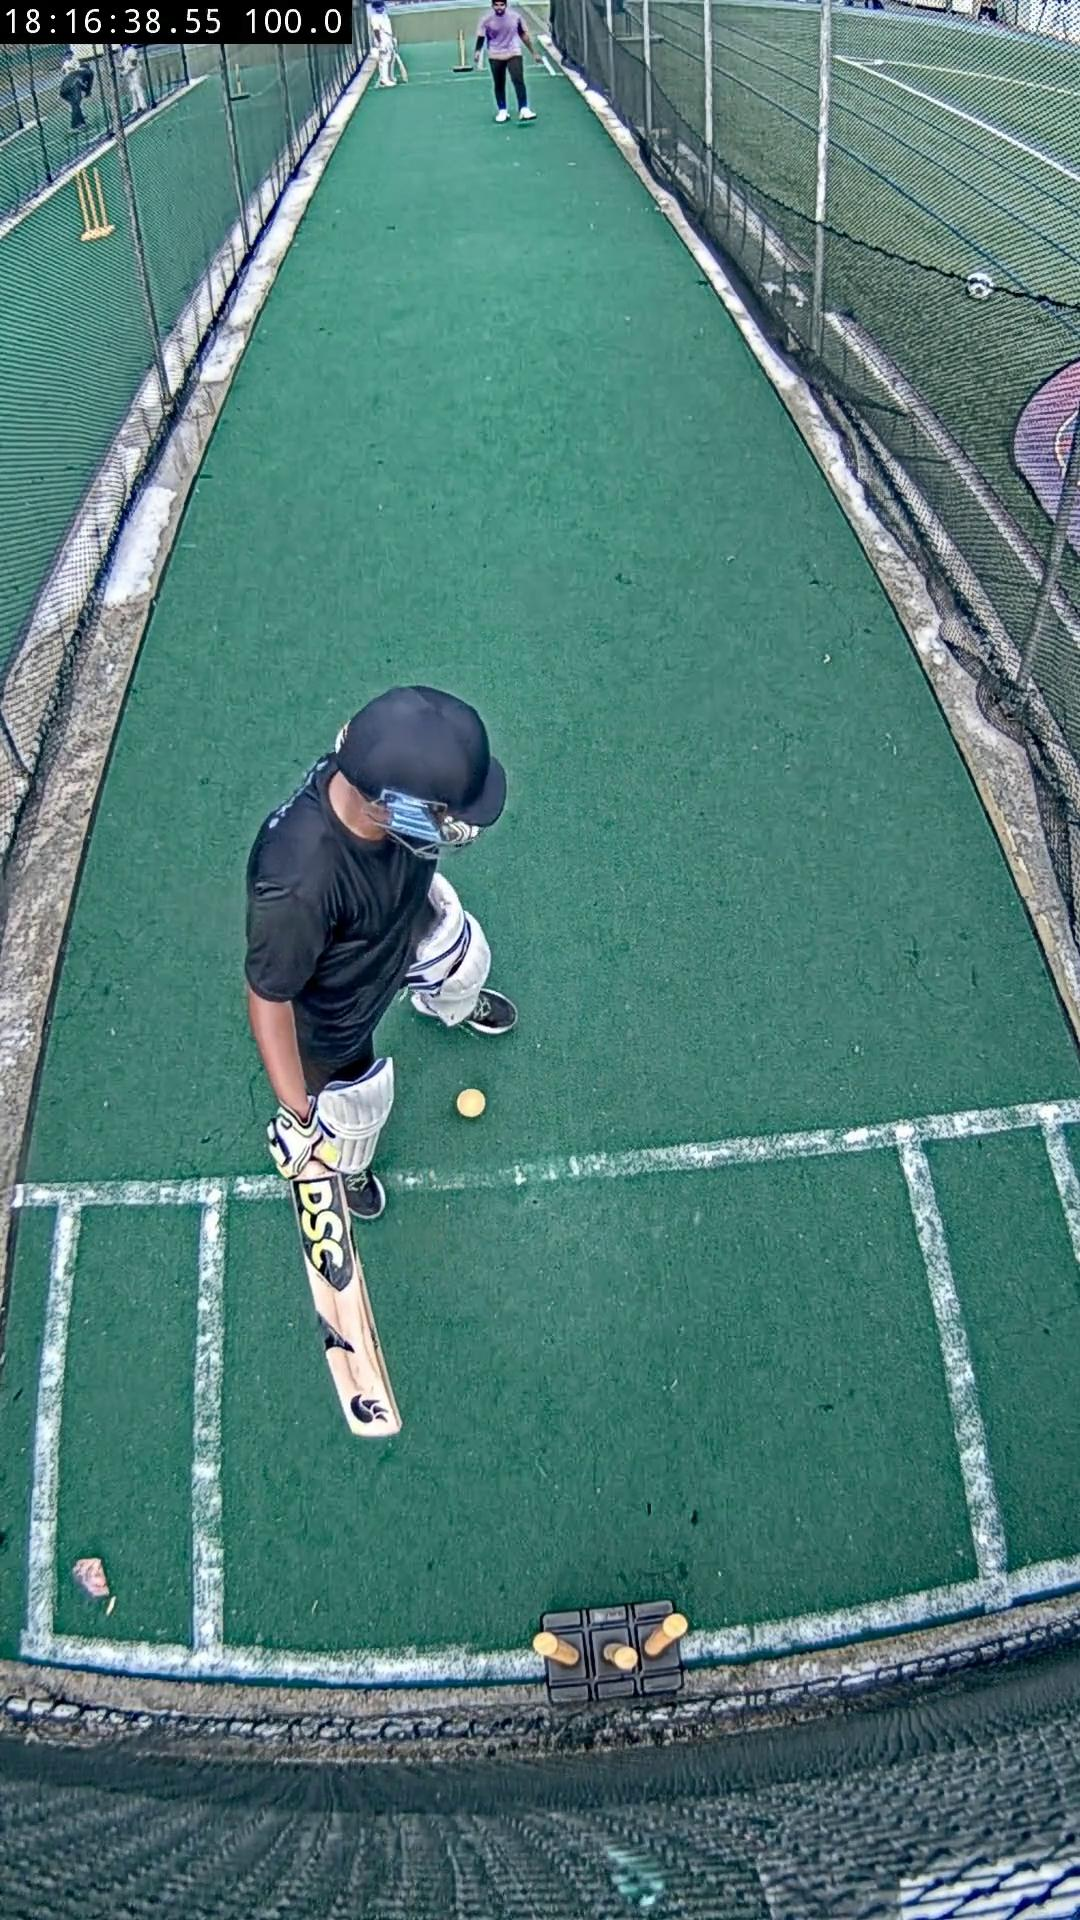ball: (454, 1088, 488, 1121)
bat: (293, 1163, 401, 1436)
gloves: (266, 1106, 326, 1178)
helmet: (334, 686, 506, 858)
pads: (315, 1058, 394, 1183), (417, 915, 492, 1026)
stumps: (533, 1601, 686, 1706)
